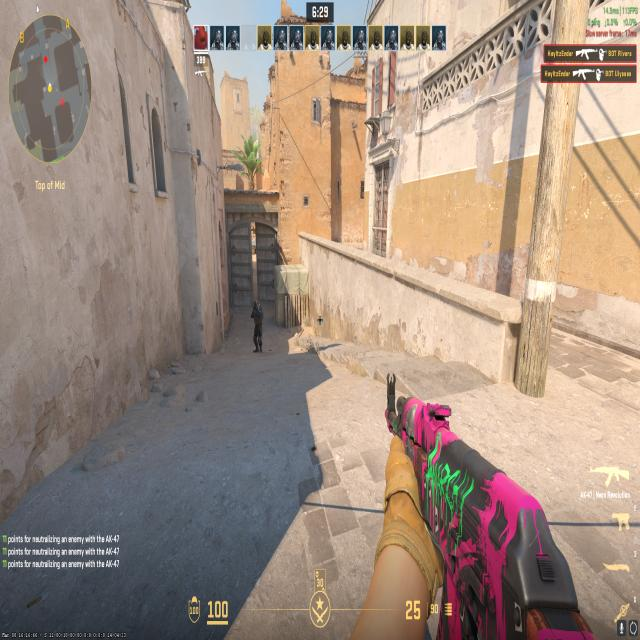ct: (248, 294, 264, 358)
